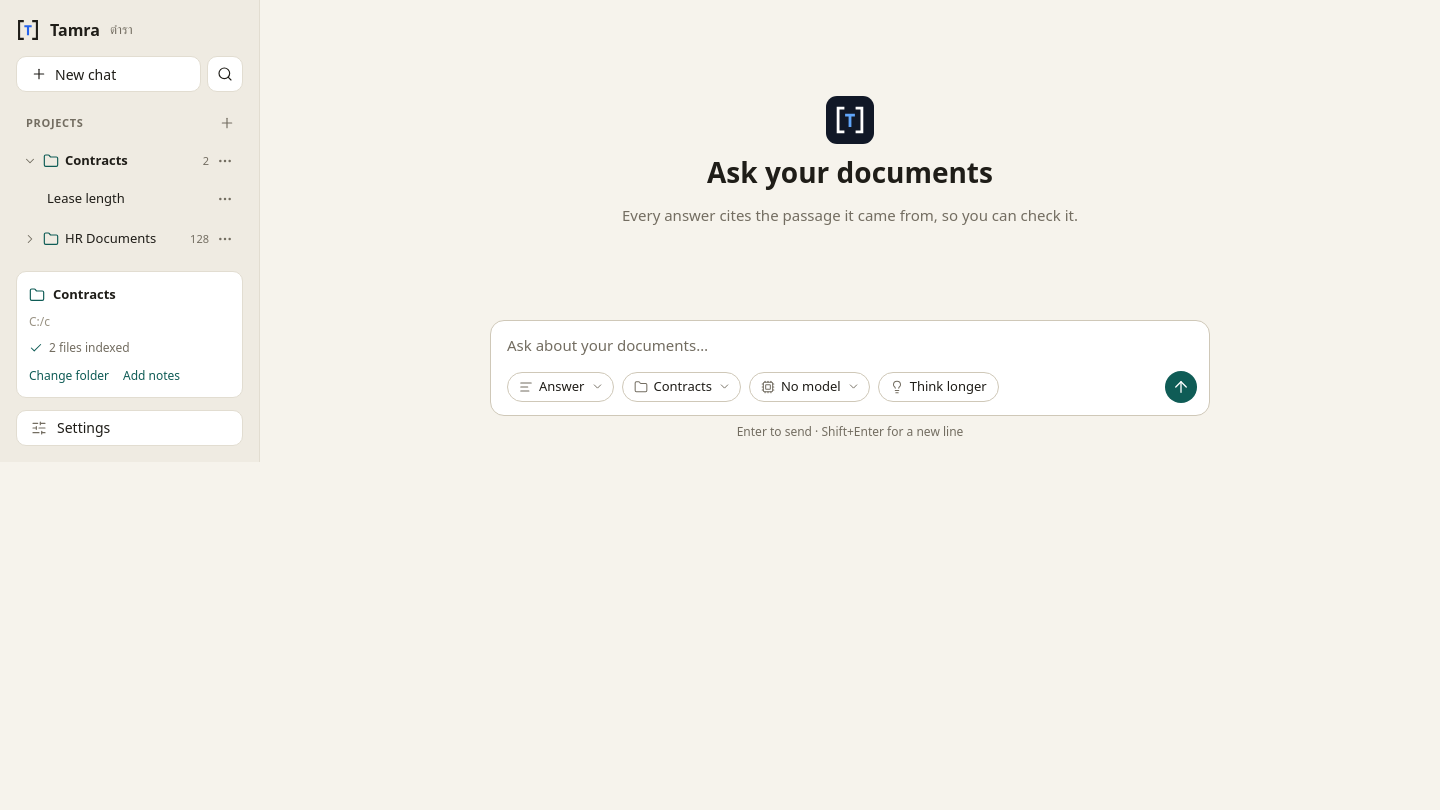
The project menu › leaves the open chat when its project is deleted
Click the button titled "Lease length" at (114, 199), box [17, 182, 211, 216]
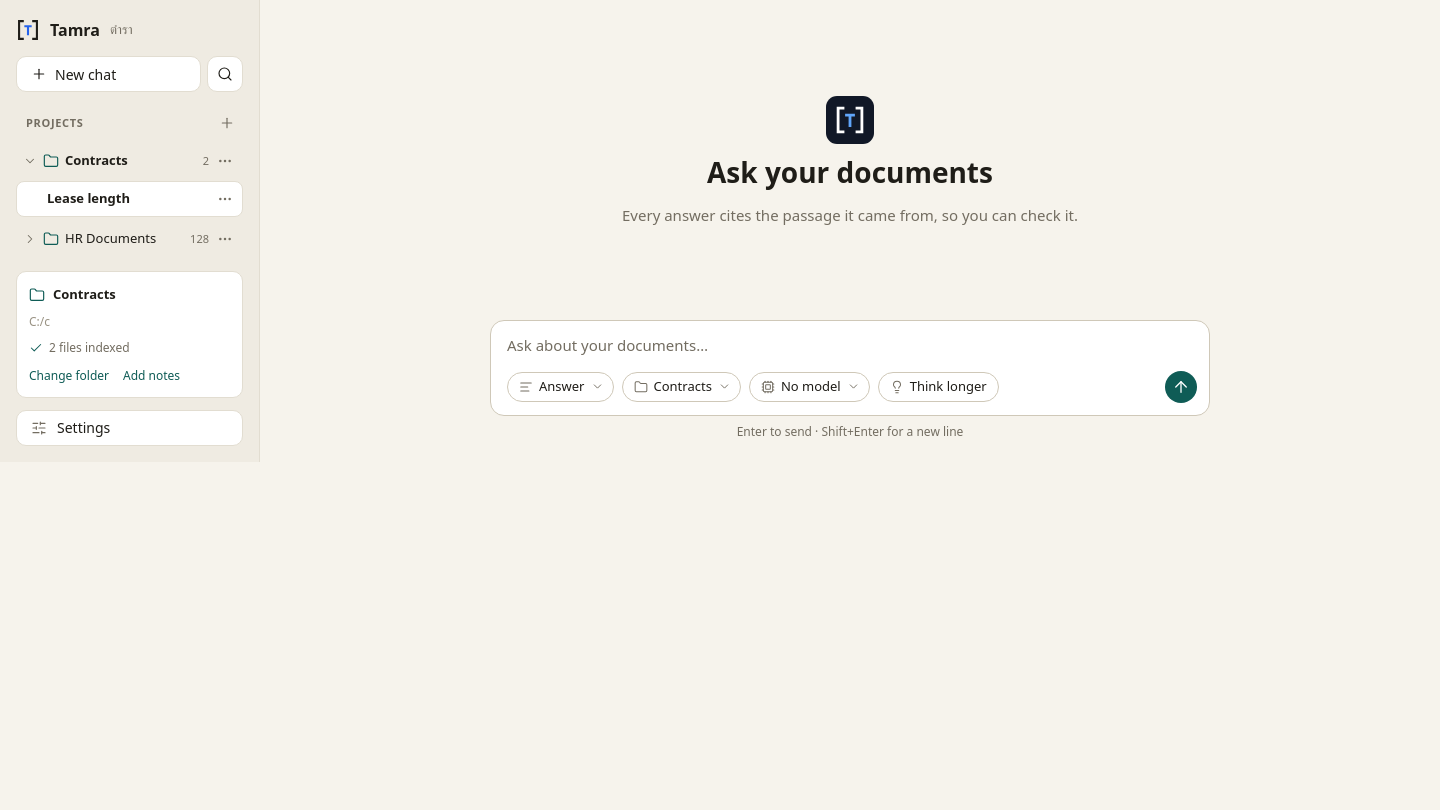
Check: the element with class "chat-row" is shown, box [16, 181, 243, 217]
Click the button named "Options for project Contracts" at (225, 161), box [211, 147, 239, 175]
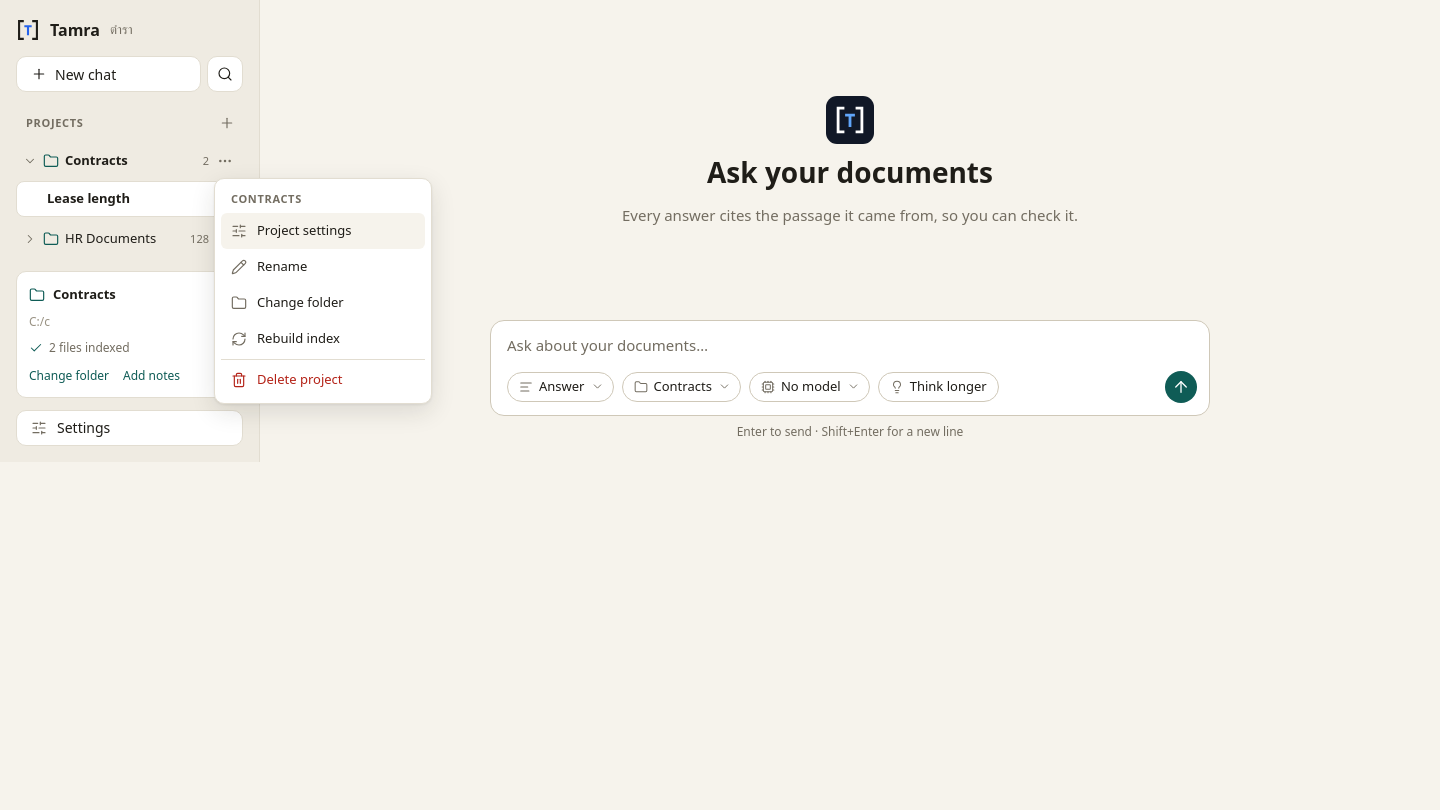
Click the menu item "Delete project" at (323, 380), box [221, 362, 425, 398]
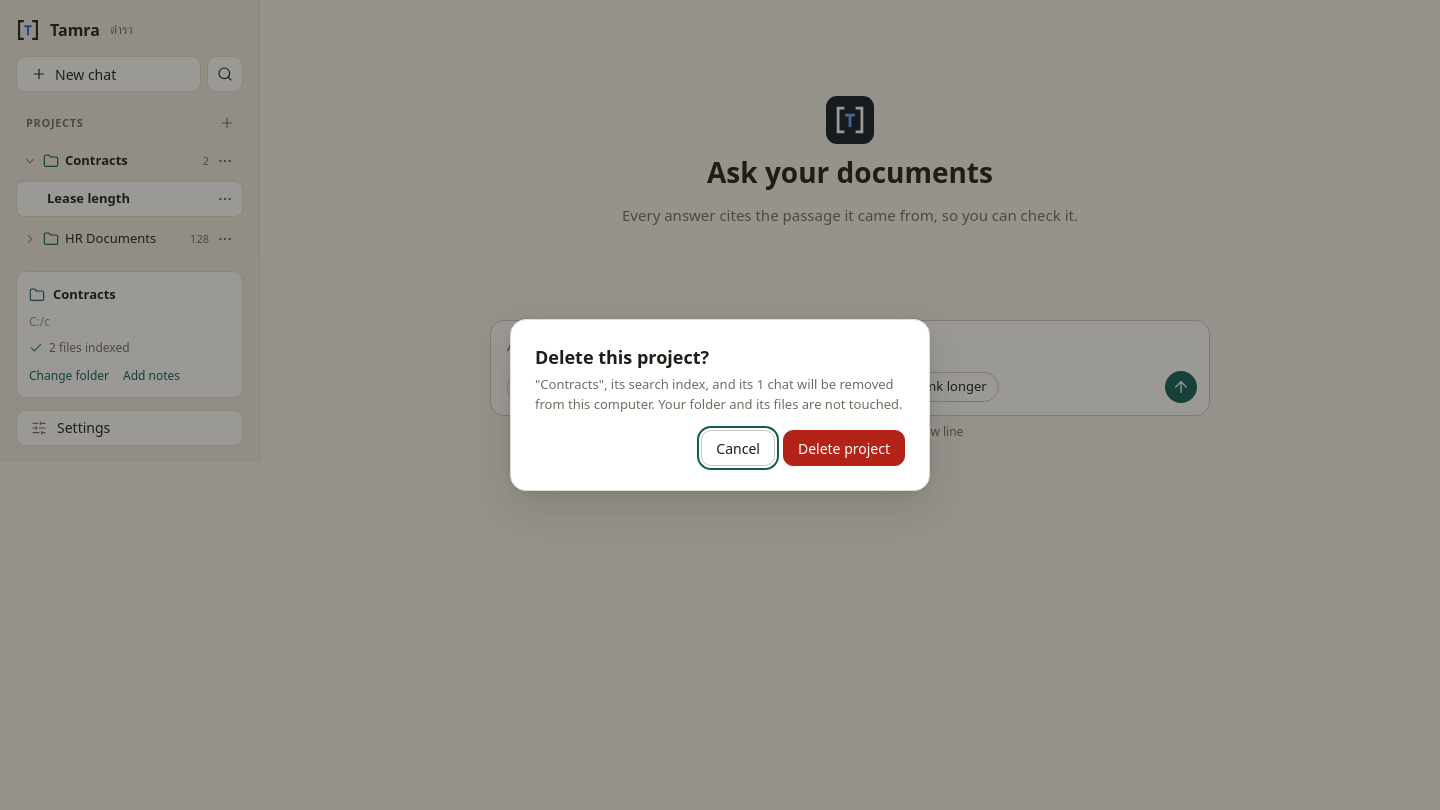
Click the button "Delete project" at (844, 448), box [783, 430, 905, 466]
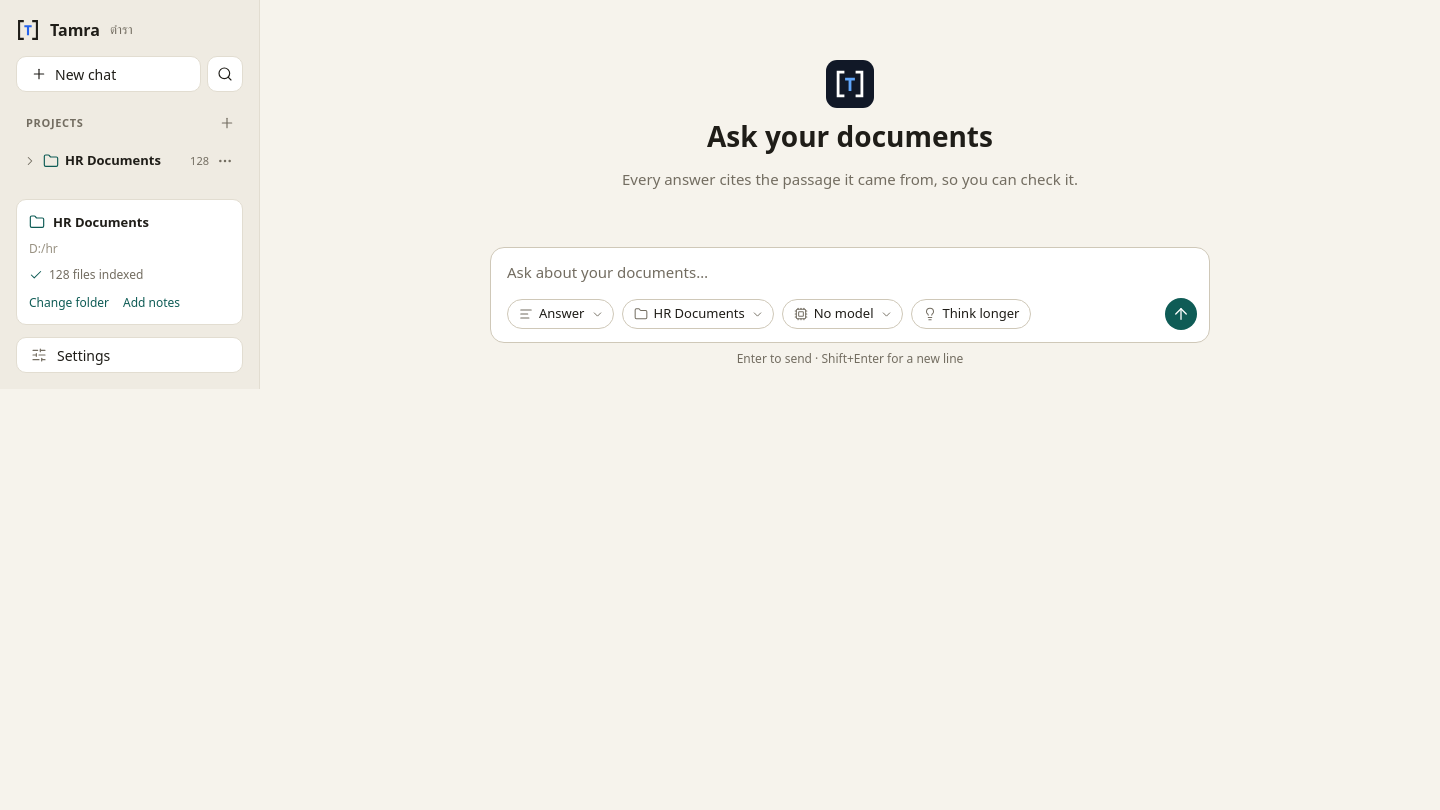
Check: the 1st text "HR Documents" is shown, box [65, 151, 161, 171]
Check: the text "Contracts 2" is gone
